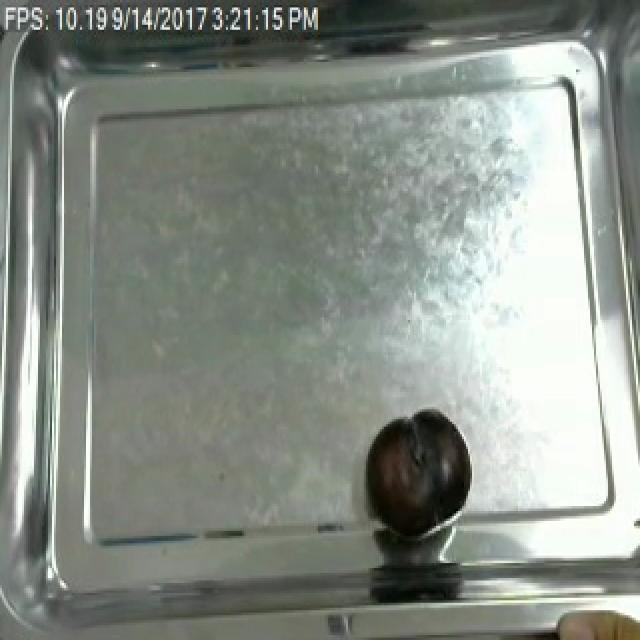Fruit: (362, 407, 472, 536), (546, 595, 640, 640)
